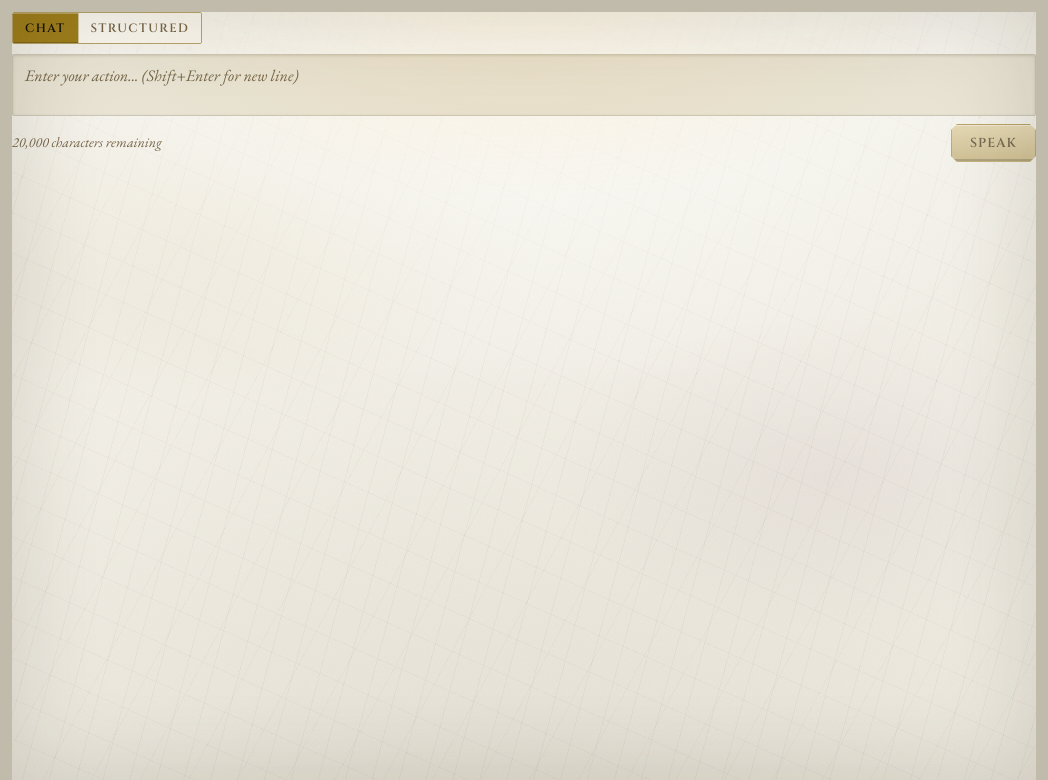
Test: each control is named by the words it shows (WCAG 2.5.3) › the tablets
Expected: the submit button reads "Speak", [951,124,1036,162]
Click the button "Structured" at (139,28), box [78,13,201,43]
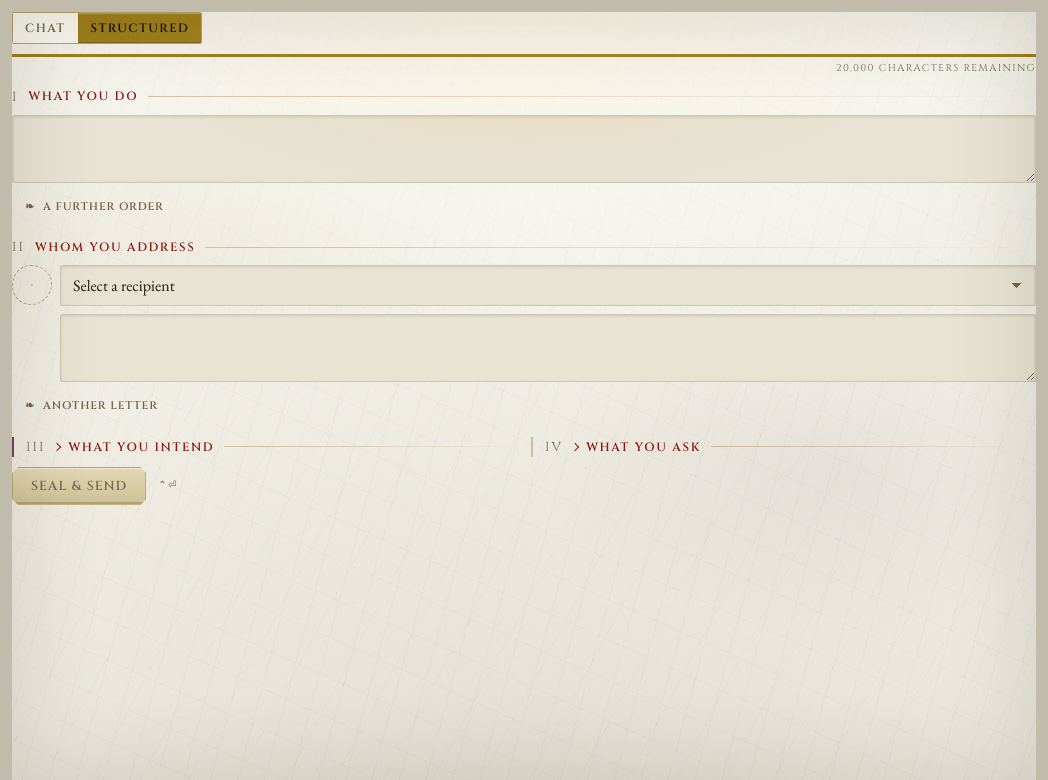
Expected: the text "❧" below "What you do" is shown, [25,199,35,214]
Expected: the button "❧ A further order" is shown, [12,191,177,221]
Expected: the text "❧" below "Whom you address" is shown, [25,398,35,413]
